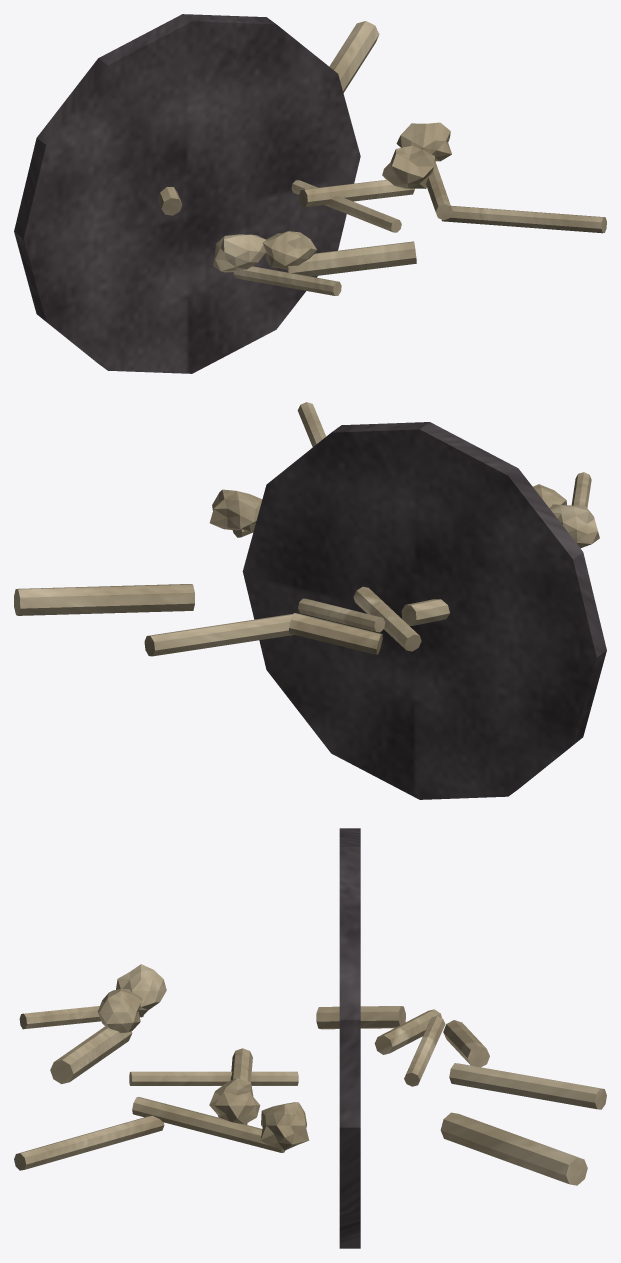
The model's file is 0244_bone_heap_19.glb.
3 renders of one model, top to bottom at view 1: azimuth 30°, elevation 25°; view 2: azimuth 150°, elevation 25°; view 3: azimuth 270°, elevation 25°, orthographic. The views are drawn at different scales.
Parts seen in each view (by area): view 1: ash, bone; view 2: ash, bone; view 3: bone, ash.
Boxes of the visible parts, <box> form: ash: <box>14,14,360,373</box>; bone: <box>158,21,606,295</box>; ash: <box>242,422,606,799</box>; bone: <box>14,402,599,656</box>; bone: <box>14,964,606,1185</box>; ash: <box>339,828,360,1248</box>.
Size of the model in its own units: 2.18 by 1.6 by 2.25.
2 materials, 2 textured.
